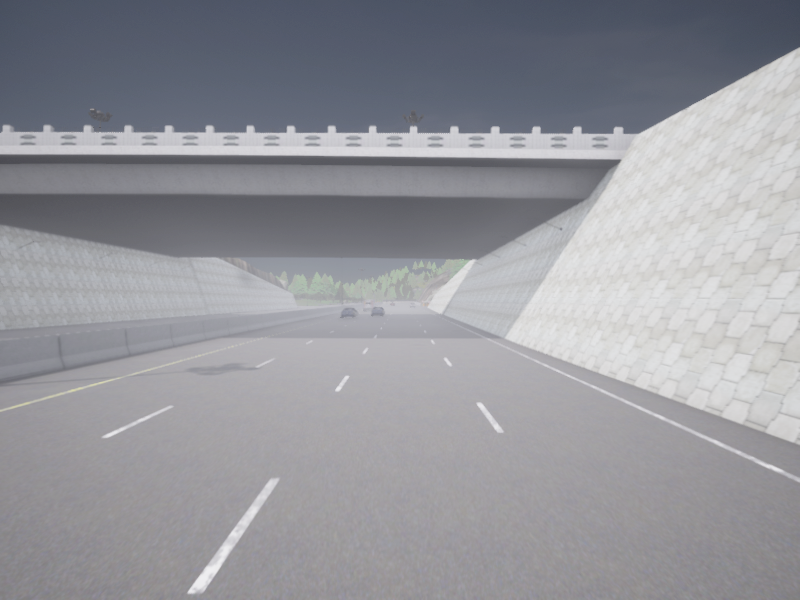vehicle: (341, 307, 357, 317), (363, 300, 375, 310), (372, 307, 384, 315), (410, 302, 414, 307), (390, 302, 394, 305)
